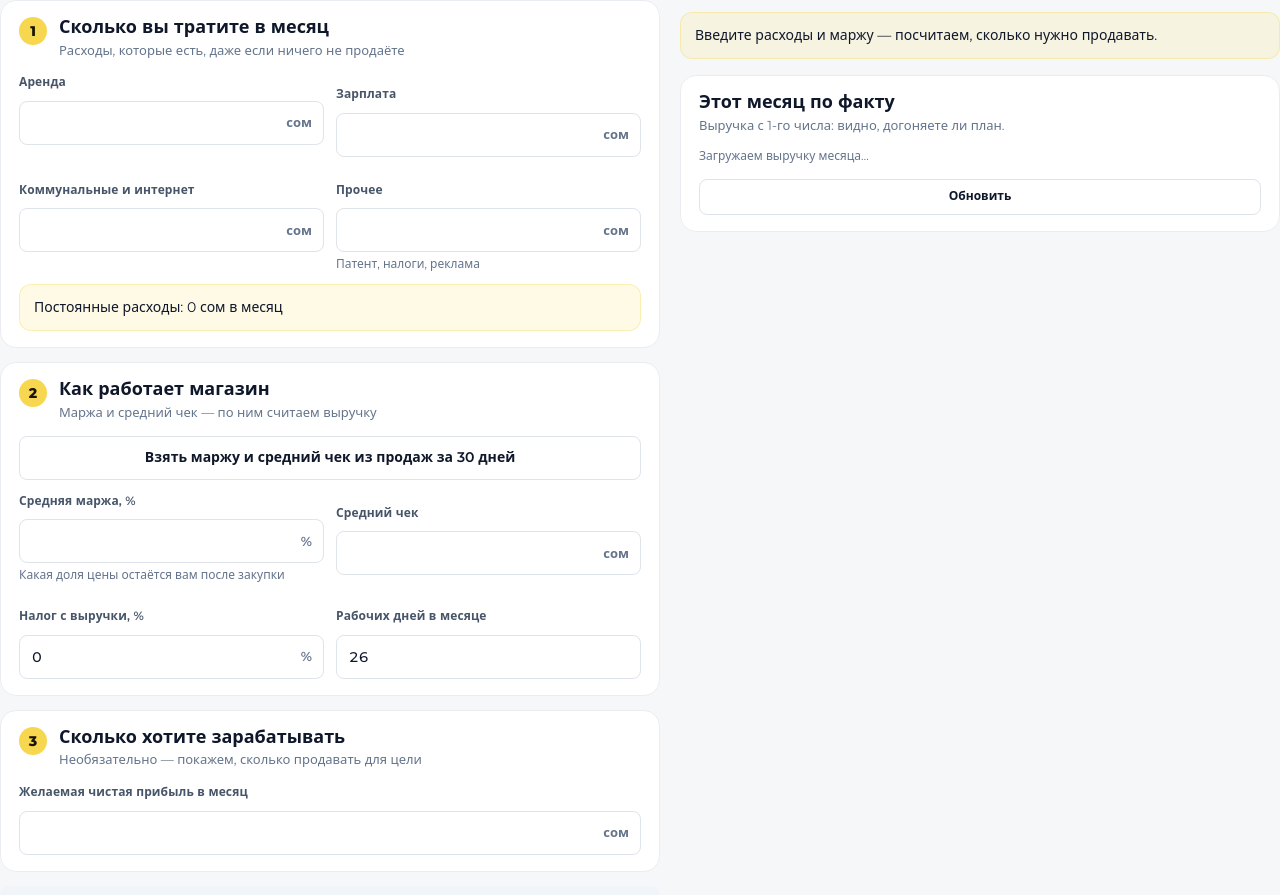
«Безубыточность» › маржа строкой с бэка (margin_percent_total) подставляется
This screenshot has width=1280, height=895.
Click the button "Взять маржу и средний чек из продаж за 30 дней" at coordinates (330, 458), box [19,436,641,480]
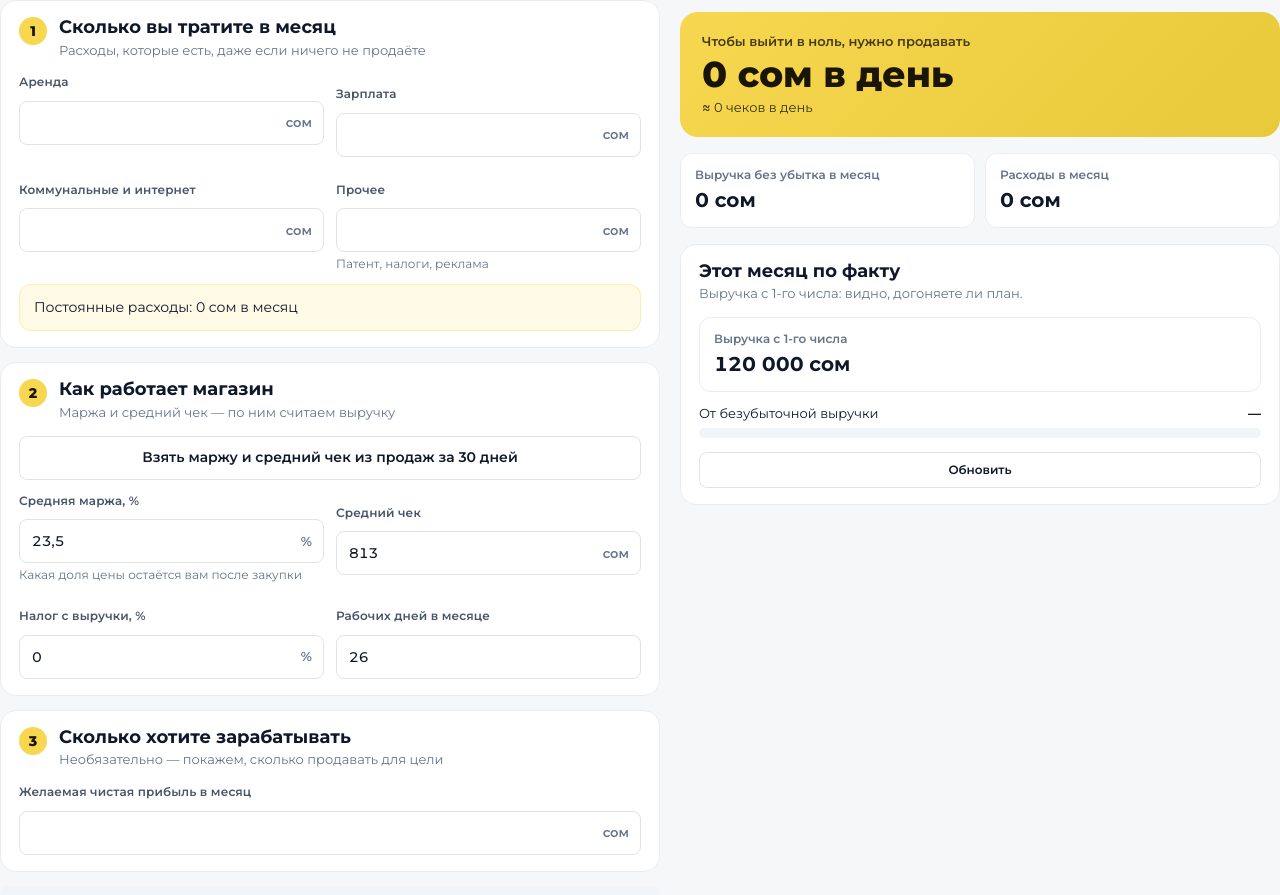
Result: the field labelled "Средняя маржа, %" holds "23,5" at [19,519,324,563]
Result: the field labelled "Средний чек" holds "813" at [336,531,641,575]
